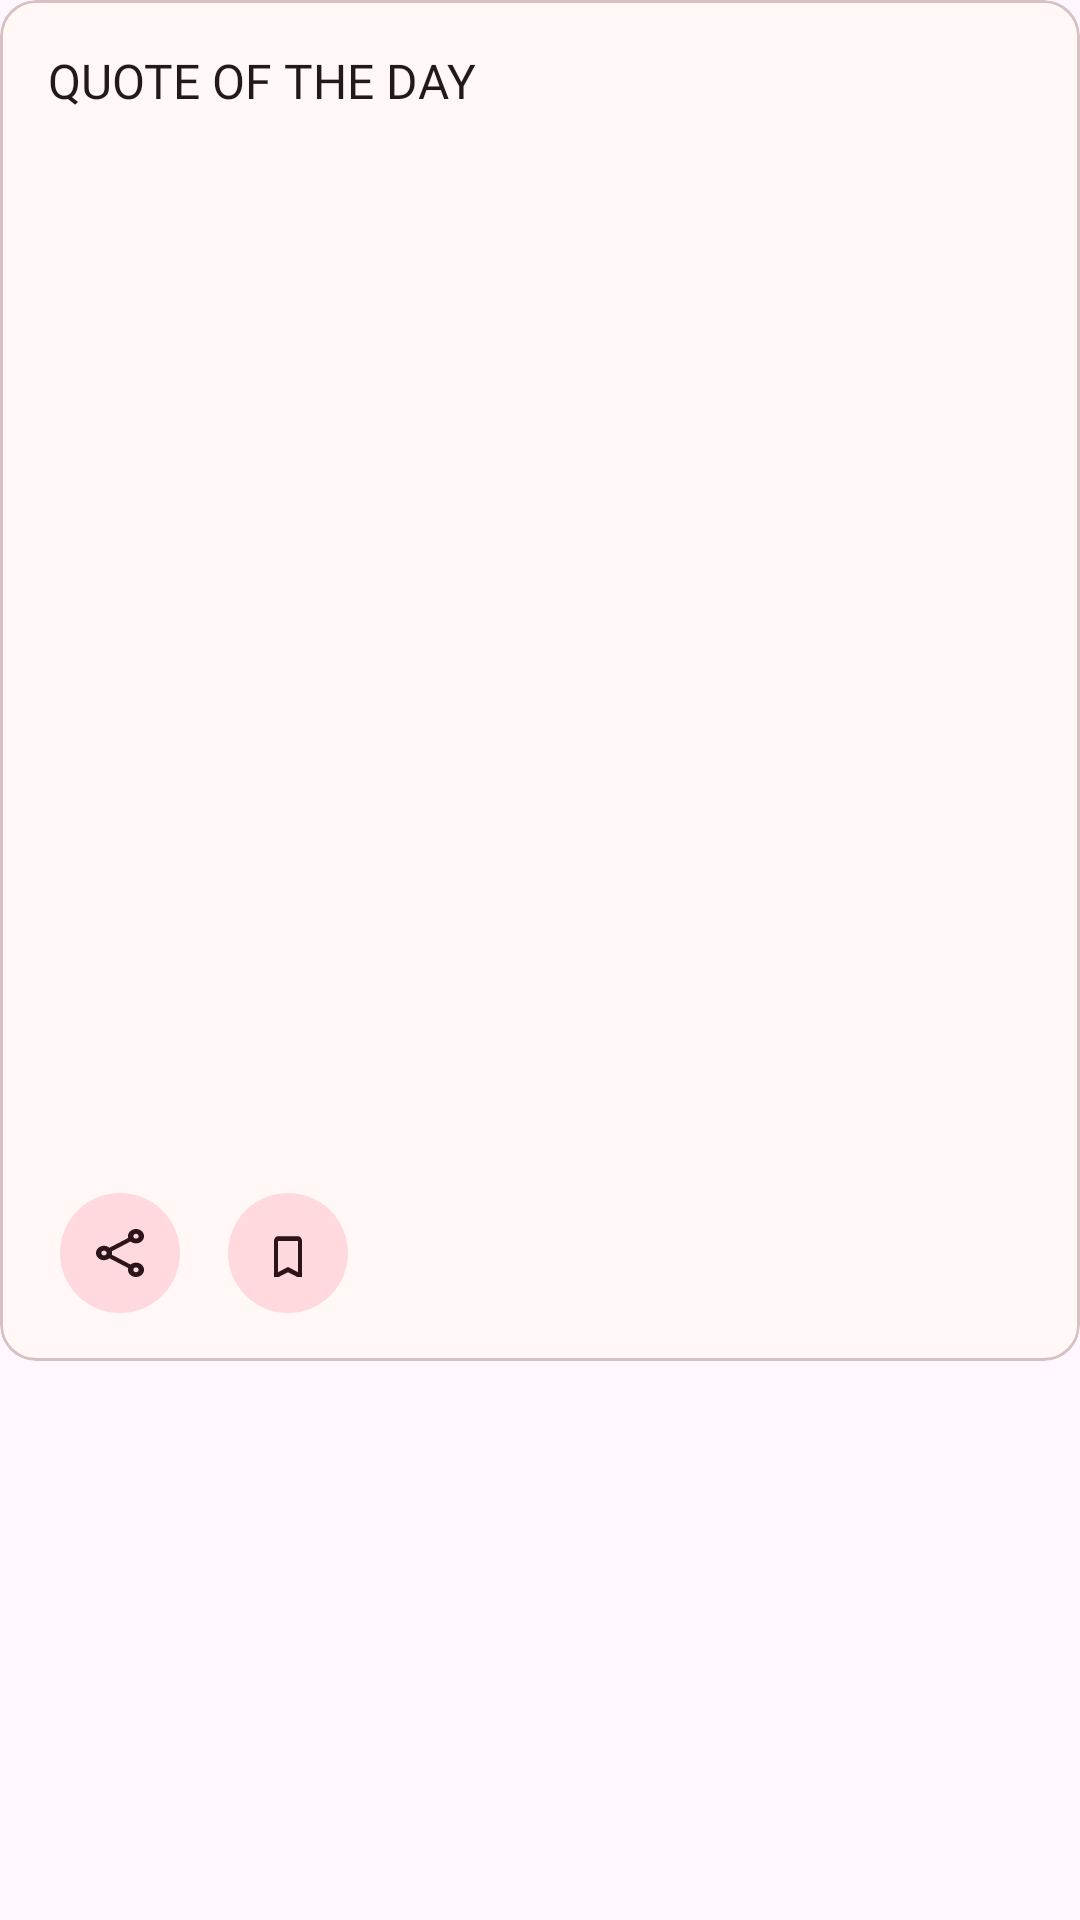

Icon click points for this 1080 x 1920 phone screenshot, format (x,y):
bookmark: (288,1253)
share: (120,1253)
